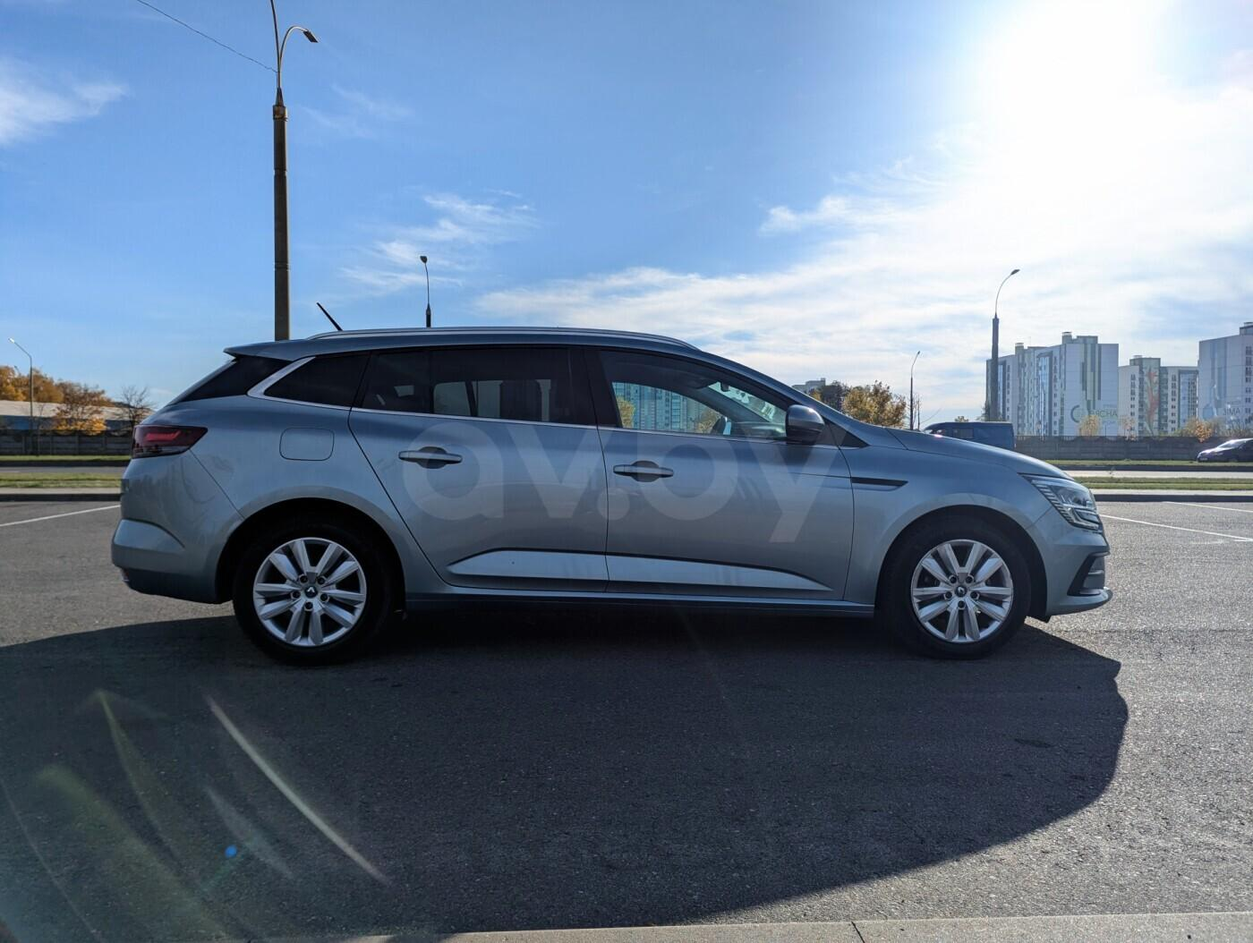Megane_2020: (110, 318, 1119, 649)
